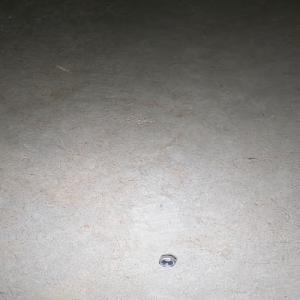Nut: (159, 254, 178, 267)
